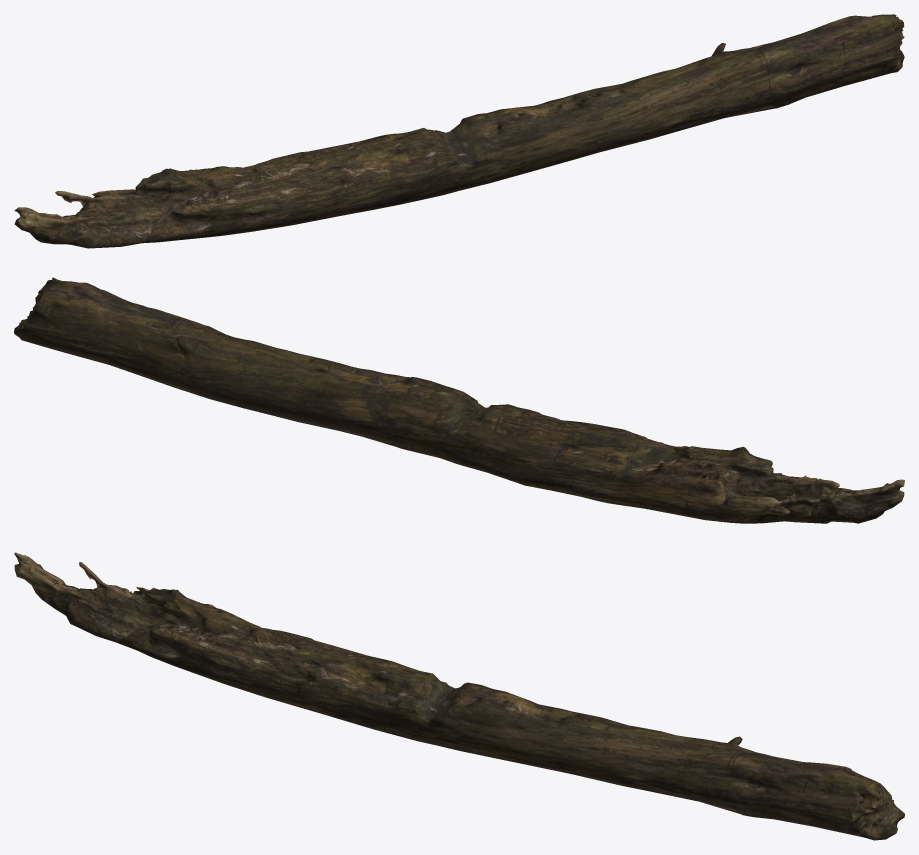
Rendered from dead_tree_trunk.glb.
The picture shows the model from 3 angles, top to bottom: view 1: azimuth 30°, elevation 25°; view 2: azimuth 150°, elevation 25°; view 3: azimuth 330°, elevation 25°; orthographic projection.
Parts seen in each view (by area): view 1: dead_tree_trunk; view 2: dead_tree_trunk; view 3: dead_tree_trunk.
Boxes of the visible parts, x1,y1,x2,y2 form: dead_tree_trunk: (14, 14, 904, 248); dead_tree_trunk: (14, 277, 904, 523); dead_tree_trunk: (14, 552, 904, 840).
Bounding box in the file's own units: 3.05 × 0.2898 × 0.277.
Materials: 1 (1 with a texture image).
